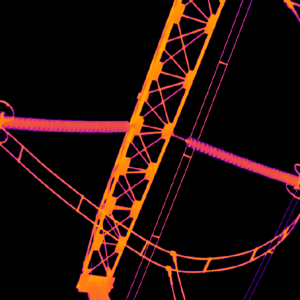insulator: (183, 132, 300, 189), (1, 113, 134, 133)
